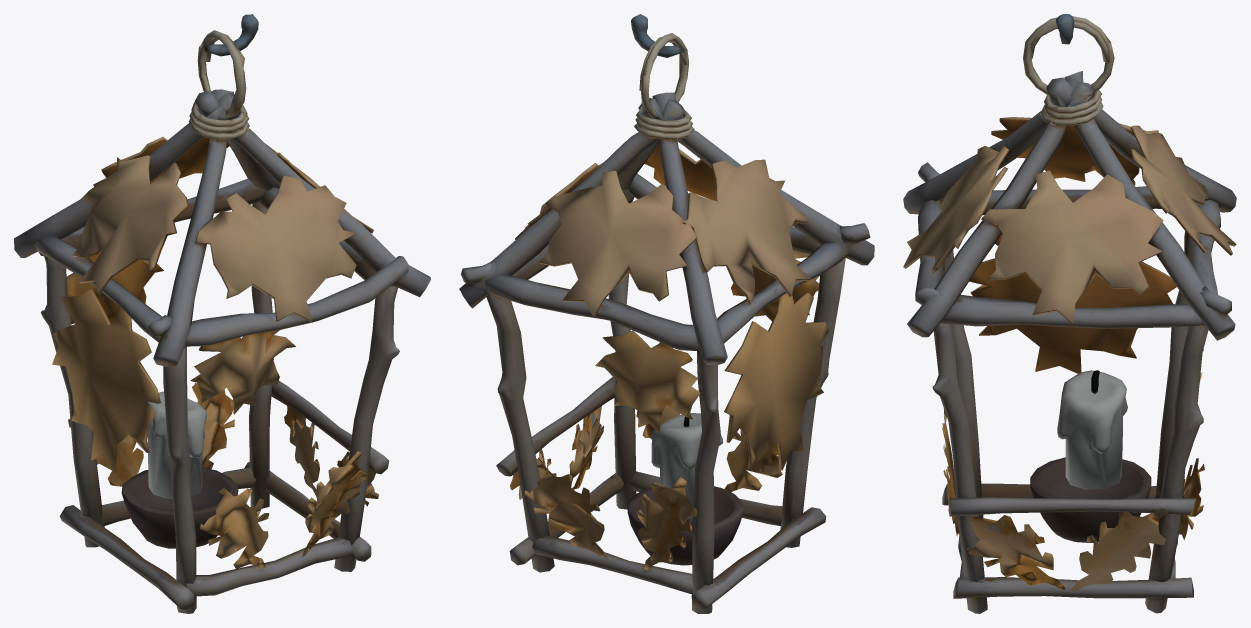
File: lantern.fbx
3 renders of one model, left to right at view 1: azimuth 30°, elevation 25°; view 2: azimuth 150°, elevation 25°; view 3: azimuth 270°, elevation 25°, orthographic. The views are drawn at different scales.
Visible parts, largest first — view 1: tripo_node_4f02cb23; view 2: tripo_node_4f02cb23; view 3: tripo_node_4f02cb23.
Boxes of the visible parts, x1,y1,x2,y2 form: tripo_node_4f02cb23: [14, 14, 430, 613]; tripo_node_4f02cb23: [459, 14, 874, 613]; tripo_node_4f02cb23: [903, 14, 1236, 613].
Bounding box in the file's own units: 0.5449 × 0.998 × 0.5332.
Materials: 1 (1 with a texture image).
